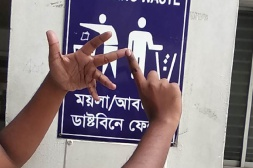u: (41, 27, 152, 107)
